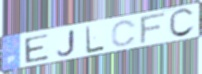C: (168, 7, 196, 39), (110, 19, 137, 48)
E: (23, 32, 51, 64)
F: (138, 11, 168, 46)
J: (55, 29, 76, 57)
L: (85, 24, 106, 55)
